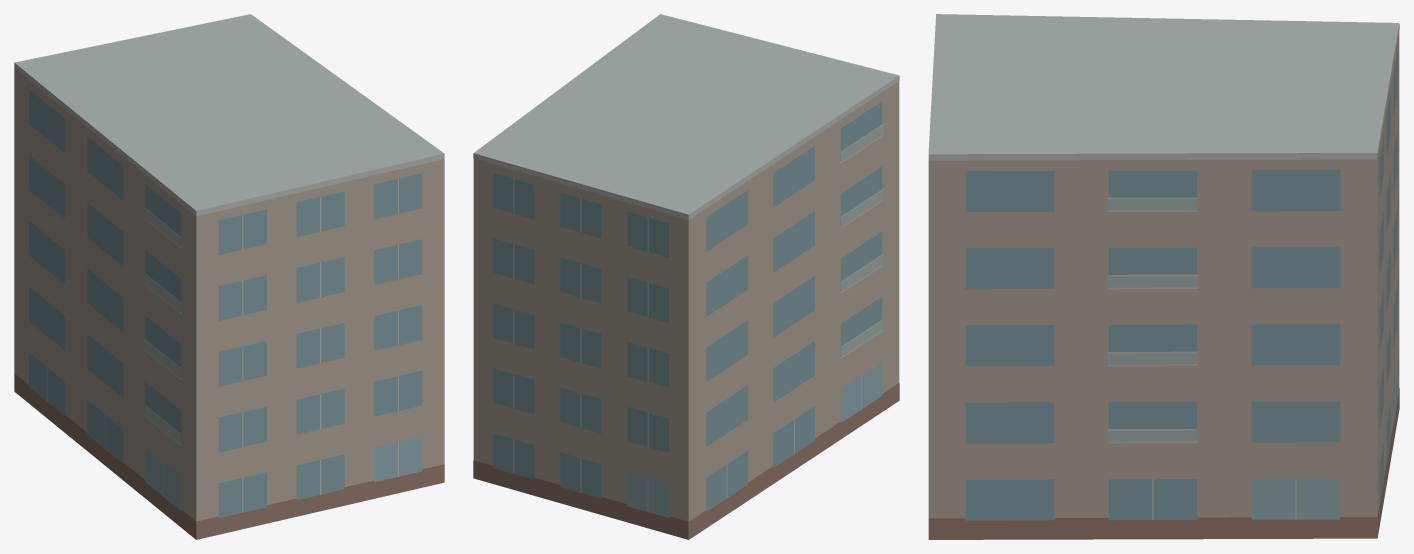
The model's file is survey-upis-32641197.glb.
3 views of the same model, side by side, from view 1: azimuth 30°, elevation 25°; view 2: azimuth 150°, elevation 25°; view 3: azimuth 270°, elevation 25° (orthographic). The views are drawn at different scales.
Visible parts, largest first — view 1: survey-upis-32641197.tmp; view 2: survey-upis-32641197.tmp; view 3: survey-upis-32641197.tmp.
Boxes of the visible parts, <box> form: survey-upis-32641197.tmp: <box>14,14,444,539</box>; survey-upis-32641197.tmp: <box>473,14,899,539</box>; survey-upis-32641197.tmp: <box>928,14,1399,539</box>.
Size of the model in its own units: 11.51 by 14.75 by 16.34.
